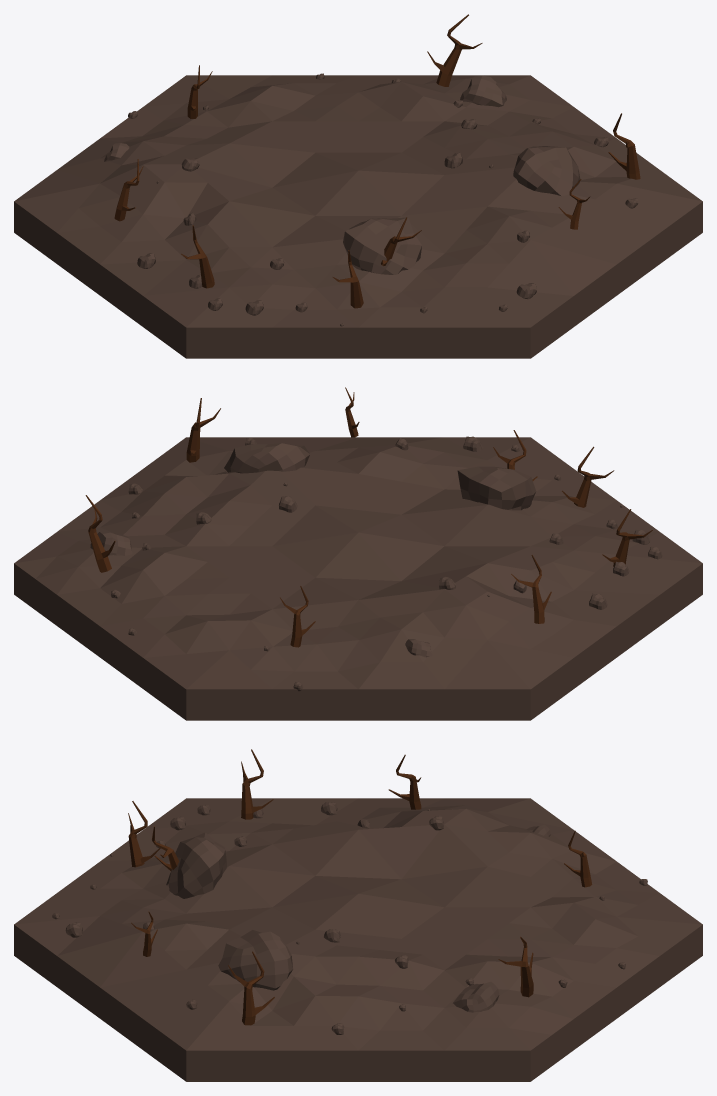
File: scorchedbare.glb
The picture shows the model from 3 angles, top to bottom: view 1: azimuth 30°, elevation 25°; view 2: azimuth 150°, elevation 25°; view 3: azimuth 270°, elevation 25°; orthographic projection.
Parts seen in each view (by area): view 1: land, rocks, Cylinder.001; view 2: land, rocks, Cylinder.001; view 3: land, rocks, Cylinder.001.
Part boxes in pixels (x1,y1,x2,y2): land: (14, 75, 702, 358); rocks: (104, 73, 638, 326); Cylinder.001: (114, 14, 640, 308); land: (14, 437, 702, 720); rocks: (90, 436, 662, 691); Cylinder.001: (85, 387, 652, 647); land: (14, 798, 702, 1081); rocks: (52, 802, 647, 1034); Cylinder.001: (128, 749, 592, 1025).
Size of the model in its own units: 1.73 by 0.3598 by 2.
